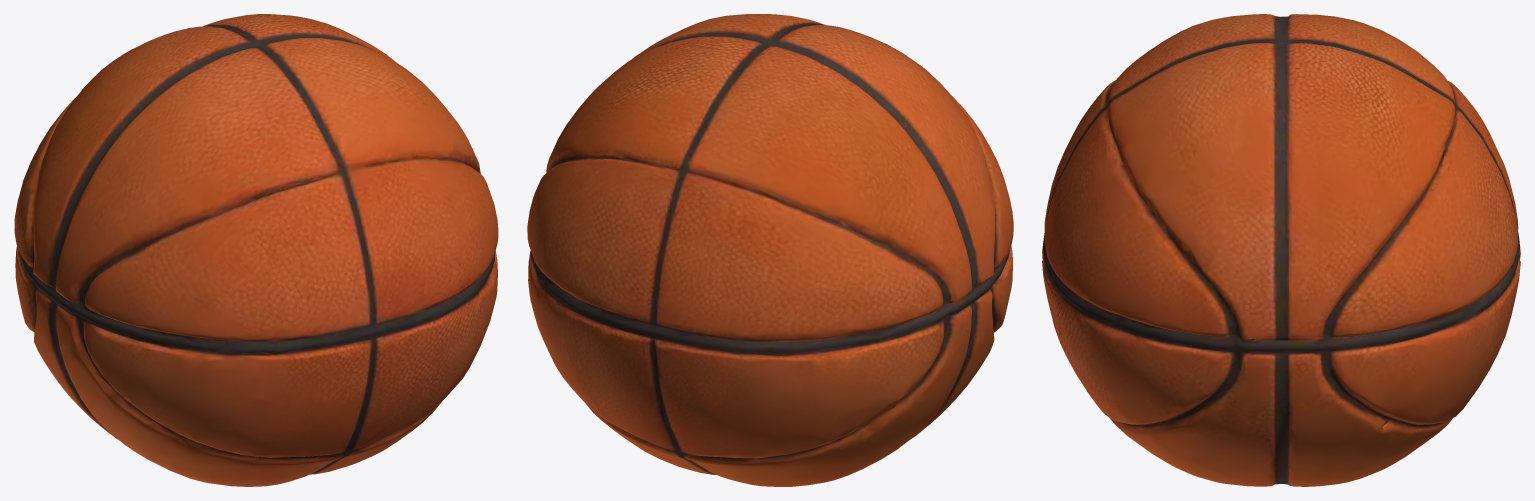
The model's file is basketball.glb.
The picture shows the model from 3 angles, left to right: view 1: azimuth 30°, elevation 25°; view 2: azimuth 150°, elevation 25°; view 3: azimuth 270°, elevation 25°; orthographic projection.
Parts seen in each view (by area): view 1: tripo_node_36d3fbc9-8f83-4891-a3dc-739c2224ed9f; view 2: tripo_node_36d3fbc9-8f83-4891-a3dc-739c2224ed9f; view 3: tripo_node_36d3fbc9-8f83-4891-a3dc-739c2224ed9f.
Part boxes in pixels (box(x1,y1,x2,y2)): tripo_node_36d3fbc9-8f83-4891-a3dc-739c2224ed9f: box(14, 14, 498, 486); tripo_node_36d3fbc9-8f83-4891-a3dc-739c2224ed9f: box(527, 14, 1013, 486); tripo_node_36d3fbc9-8f83-4891-a3dc-739c2224ed9f: box(1042, 14, 1520, 486).
Bounding box in the file's own units: 1 × 0.9741 × 0.9987.
1 material, 1 textured.
